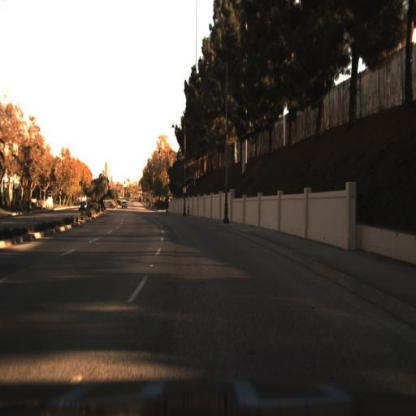car: (75, 198, 90, 215), (119, 196, 130, 214)
